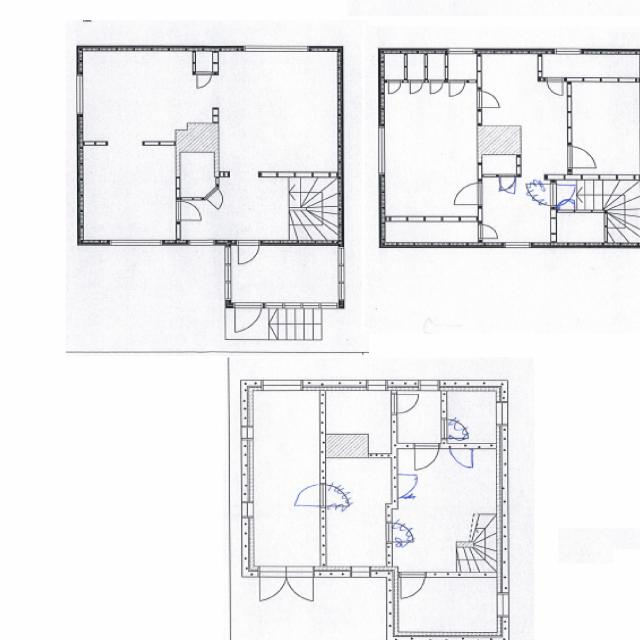door: (260, 566, 287, 602), (287, 566, 314, 602), (391, 474, 424, 498), (235, 303, 261, 333), (551, 184, 581, 207), (296, 484, 326, 506), (452, 183, 482, 205), (415, 443, 439, 470), (450, 443, 474, 470), (402, 571, 425, 599), (567, 147, 596, 168), (391, 394, 420, 414), (204, 187, 229, 209), (238, 240, 259, 265), (176, 202, 202, 220), (476, 91, 501, 108), (547, 78, 564, 97), (499, 173, 516, 192), (558, 193, 574, 213), (476, 224, 498, 238), (450, 80, 465, 97), (197, 72, 211, 87), (410, 80, 423, 95), (430, 80, 443, 94), (388, 80, 401, 94)
